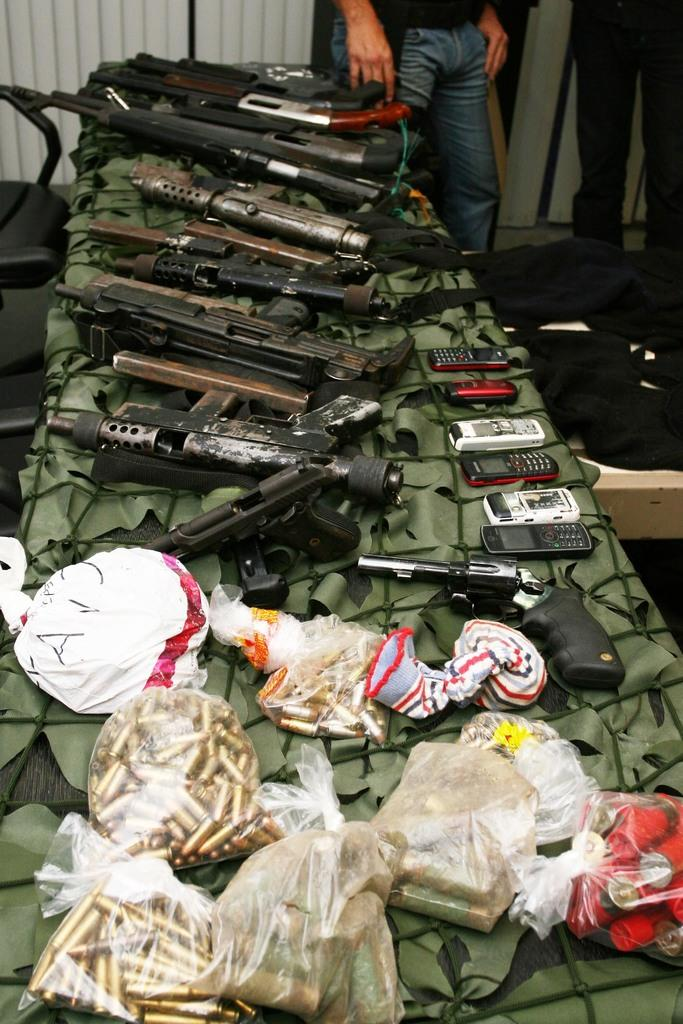non-violence: (328, 1, 518, 275), (562, 1, 682, 314)
weapon: (13, 85, 380, 210), (53, 274, 419, 379), (48, 394, 398, 499), (358, 555, 625, 688), (55, 89, 405, 170), (145, 463, 361, 558), (124, 172, 373, 253), (96, 74, 411, 136), (87, 220, 378, 283), (117, 252, 390, 316), (127, 51, 382, 113)
